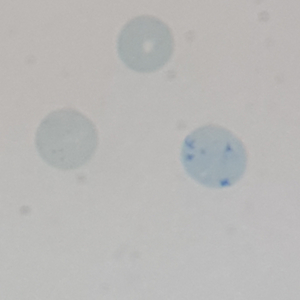aggregate reticulocyte: (178, 122, 249, 190)
erythrocyte: (33, 107, 98, 172), (115, 14, 175, 74)
